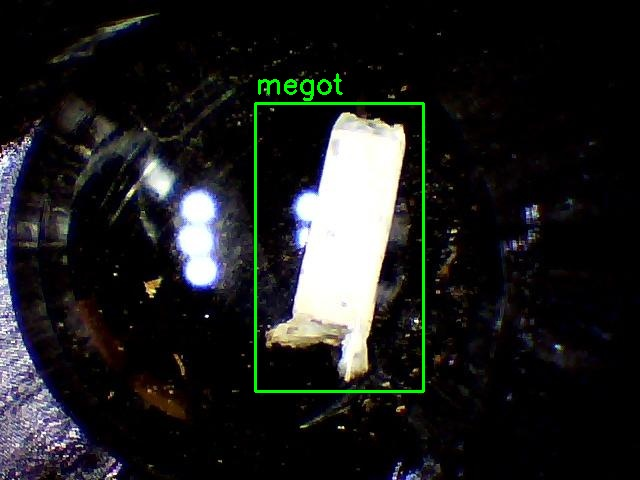megot: (255, 103, 423, 391)
